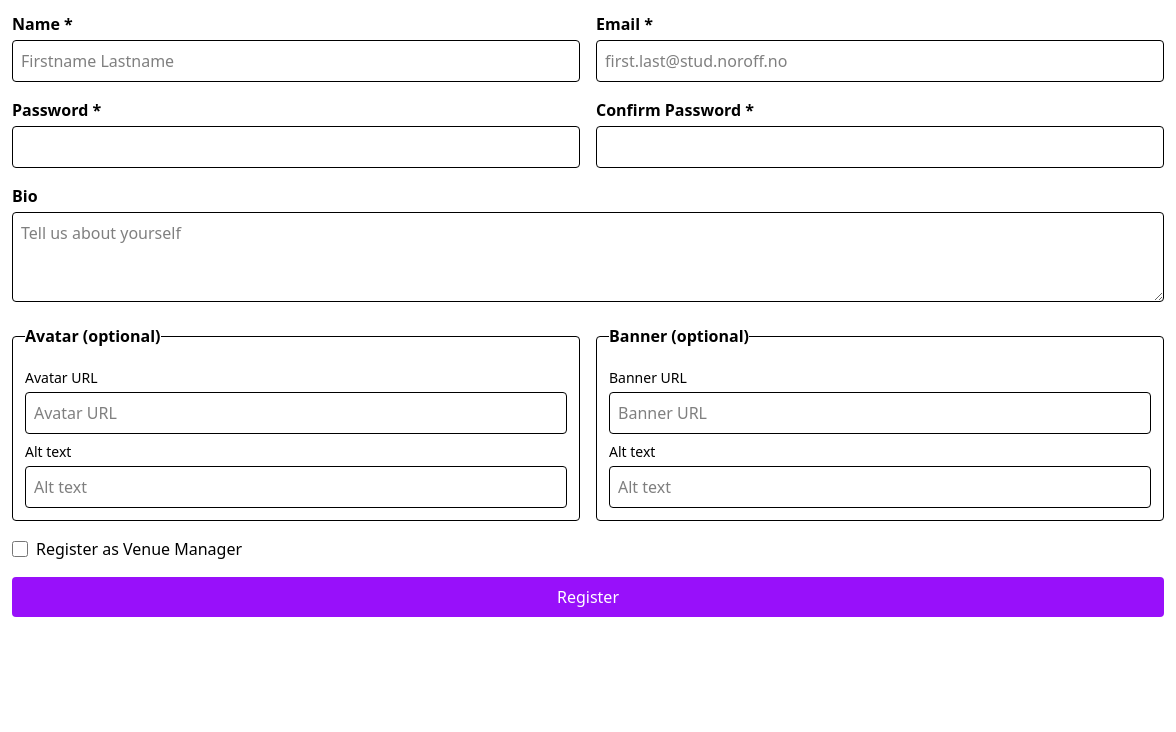
Test: RegisterForm Component › shows error if password and confirm password mismatch
Type "secret123" into the password field labelled "Password *" at (296, 147), box [12,126,580,168]
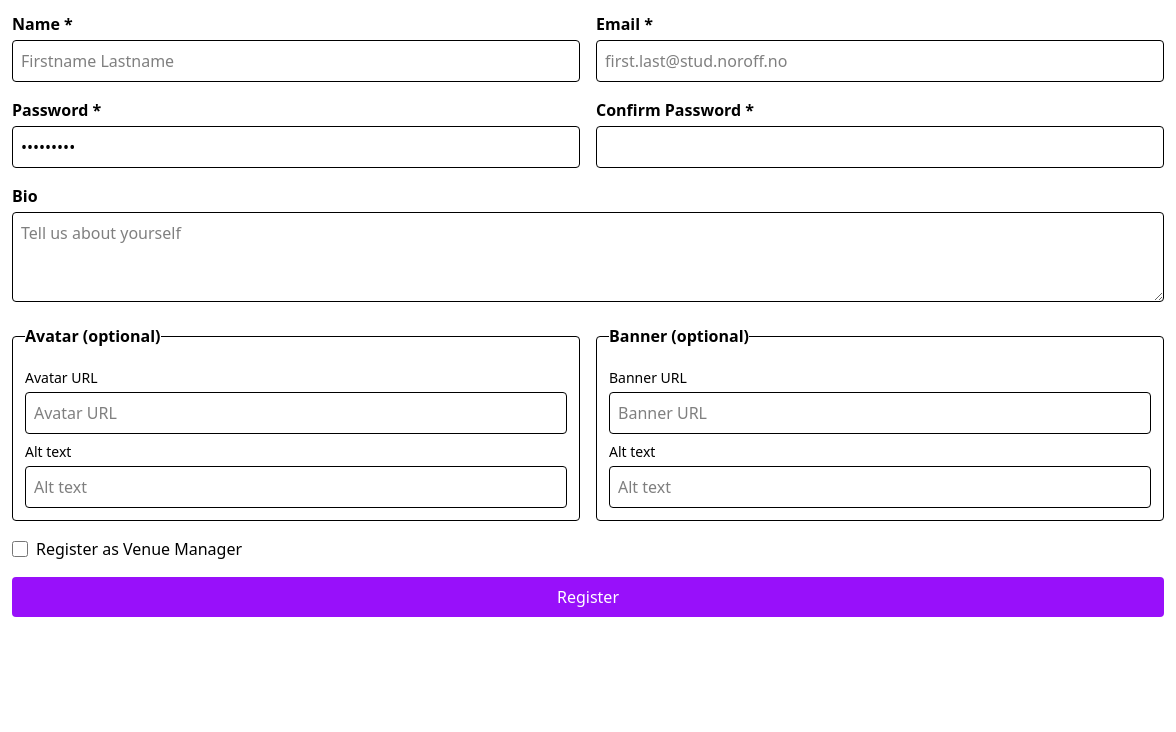
Type "wrongpass" into the password field labelled "Confirm Password *" at (880, 147), box [596,126,1164,168]
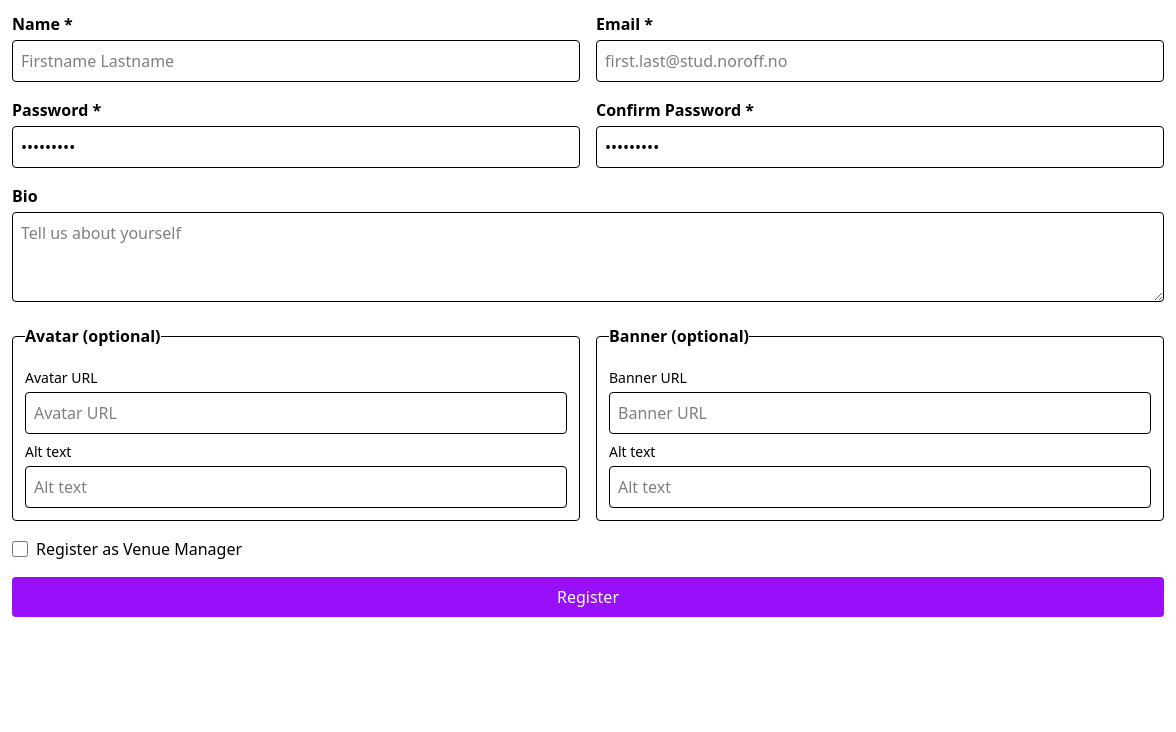
Click the button "Register" at (588, 597), box [12,577,1164,617]
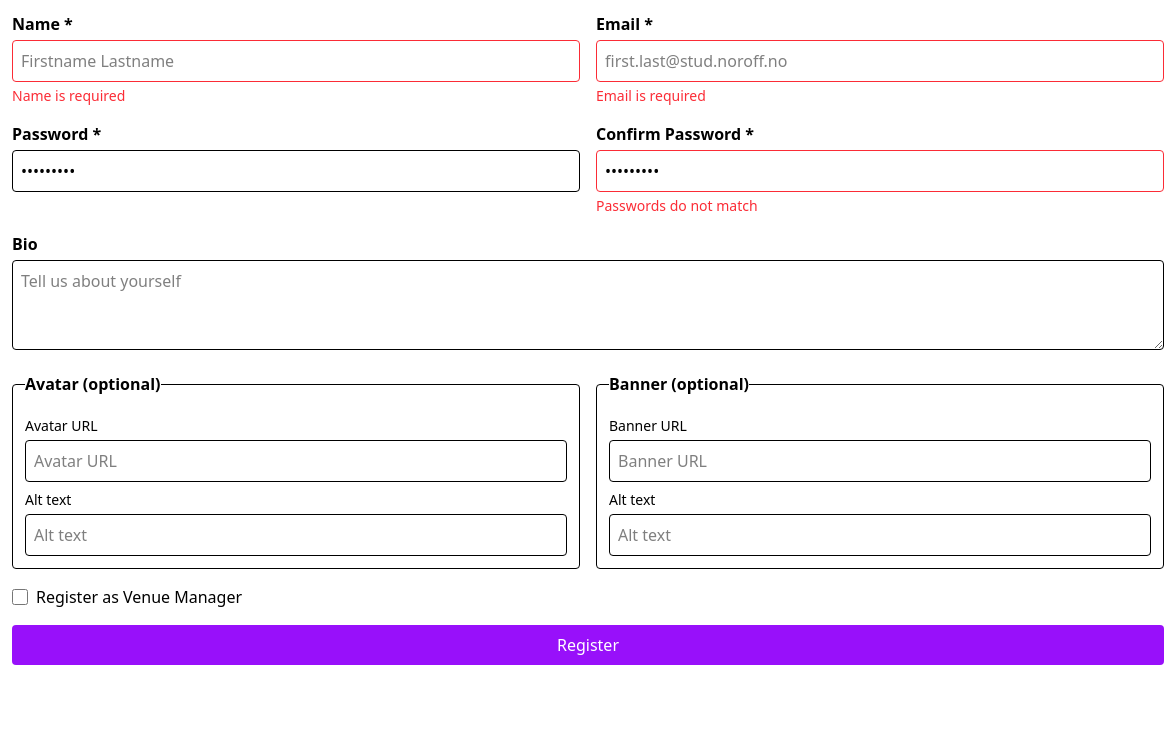
Result: the text "Passwords do not match" is shown at [596,196,758,215]
